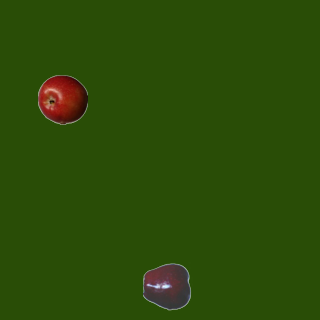Apple Braeburn: (37, 74, 87, 124)
Apple Red Delicious: (142, 261, 192, 311)
